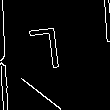L_S: (37, 28, 73, 82)
